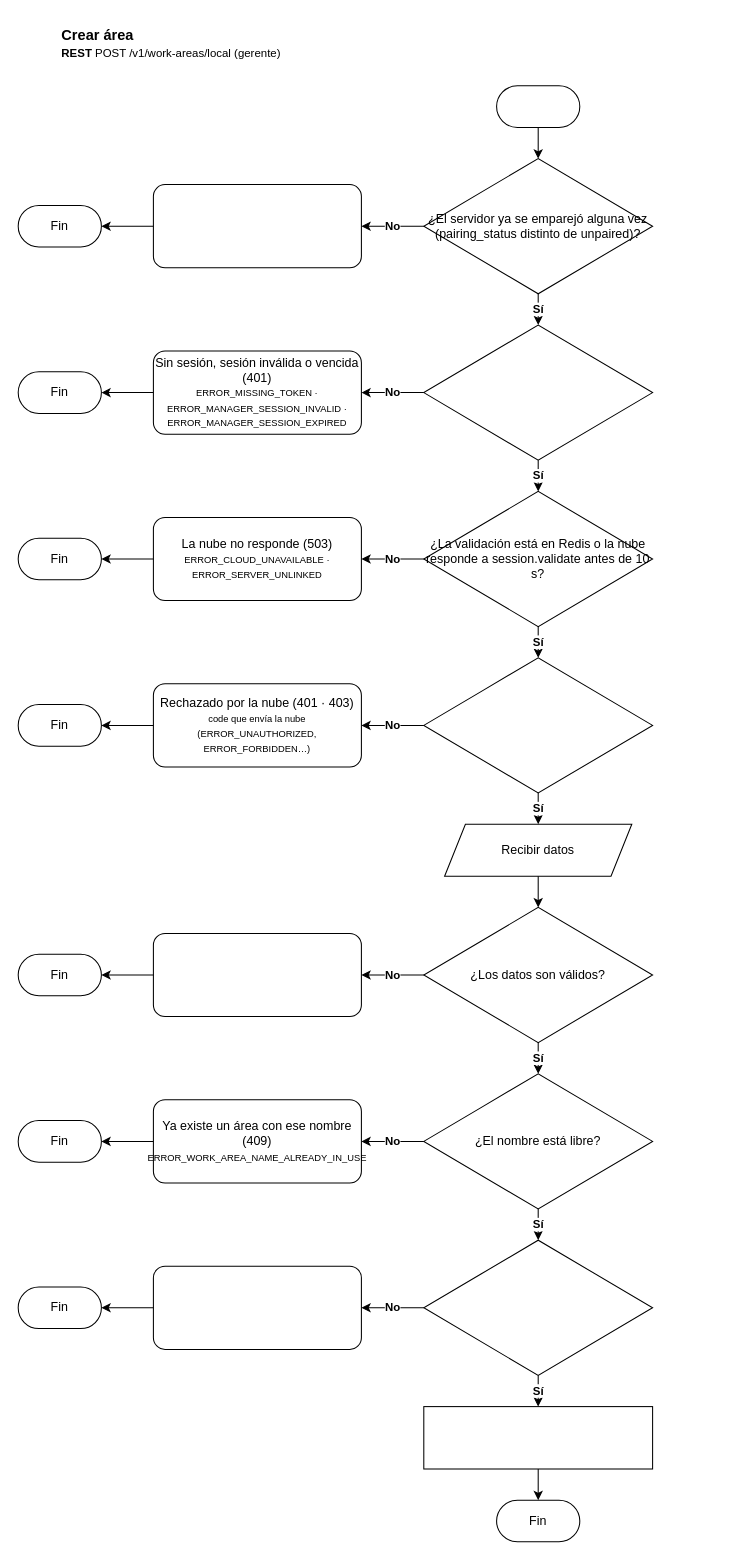
This 744x1560 diagram has some shape labels left out. Each missing label, with the centre of its shape:
"Datos inválidos (400) ERROR_BAD_REQUEST" belongs at (x=256, y=974).
"Inicio" belongs at (x=538, y=106).
"No se encontró el puesto (404) ERROR_WORK_AREA_JOB_POSITION_NOT_FOUND" belongs at (x=256, y=1307).
"Responder 201 con el mensaje WORK_AREA_CREATED" belongs at (x=538, y=1437).
"Servidor sin emparejar (409) ERROR_SERVER_NOT_PAIRED" belongs at (x=256, y=226).
"¿Existen los puestos indicados?" belongs at (x=538, y=1307).
"¿La nube acepta la sesión del gerente con este servidor?" belongs at (x=538, y=725).
"¿Trae una sesión de gerente válida (Bearer mss_..., sin 30 min de inactividad)?" belongs at (x=538, y=392).
